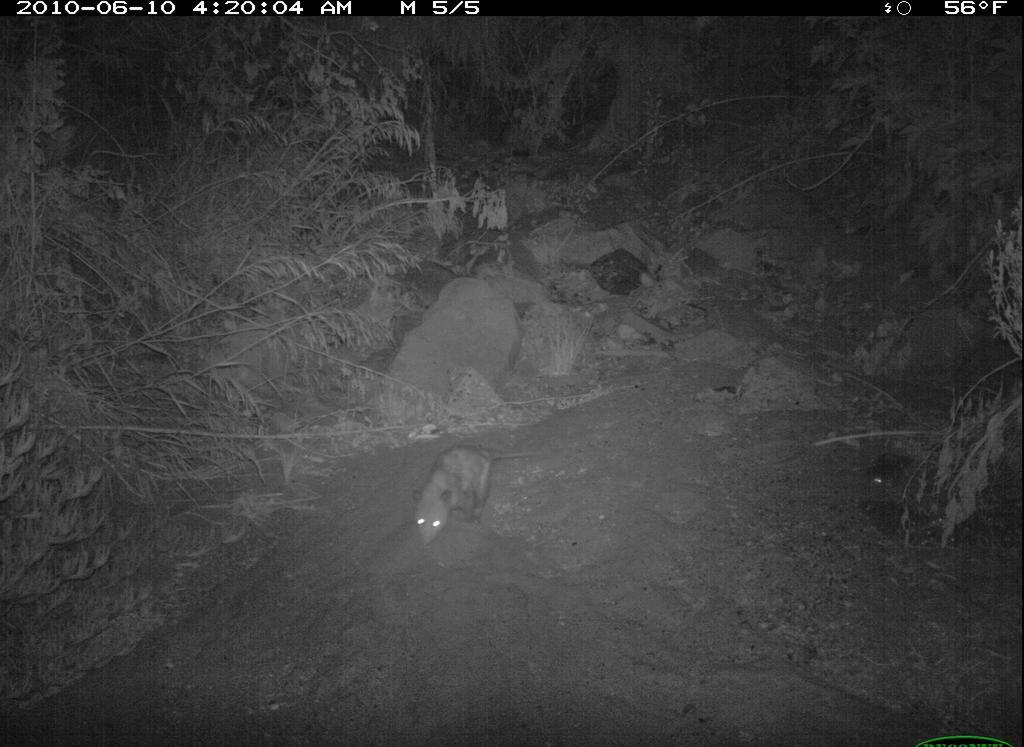opossum: (374, 424, 556, 571)
